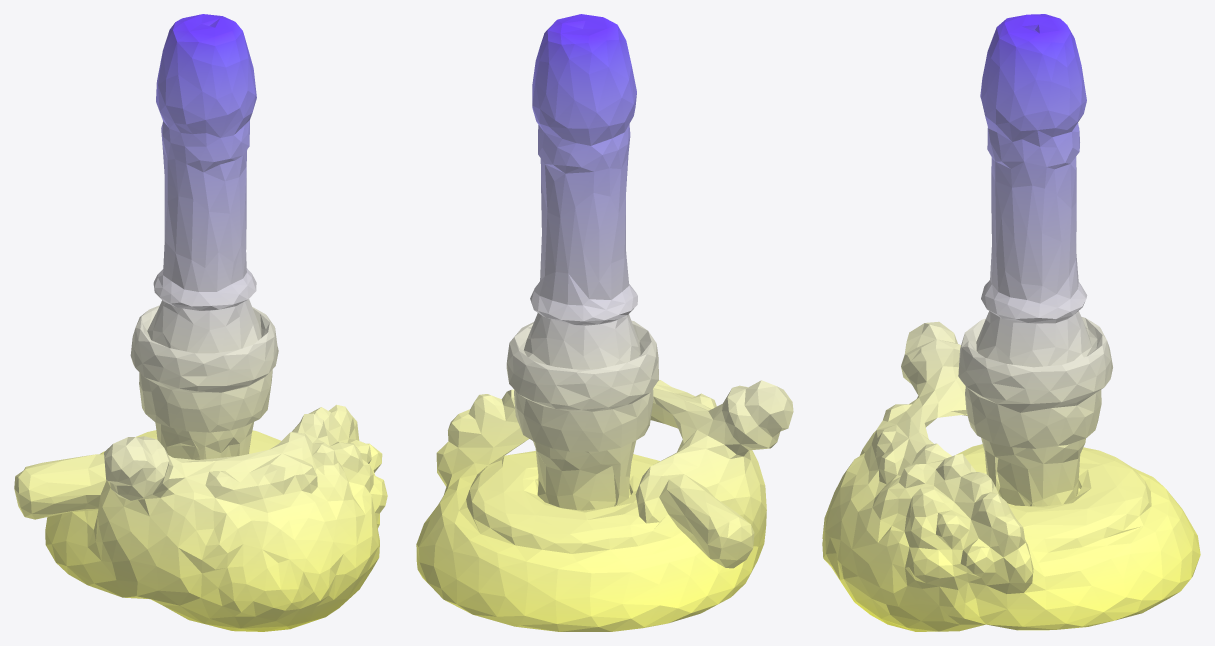
Rendered from 118_cyb_laser_gradient_fish_scales_2855_2026_10_03_8cb923.glb.
3 renders of one model, left to right at view 1: azimuth 30°, elevation 25°; view 2: azimuth 150°, elevation 25°; view 3: azimuth 270°, elevation 25°, orthographic. The views are drawn at different scales.
Visible parts, largest first — view 1: geometry_0; view 2: geometry_0; view 3: geometry_0.
Part boxes in pixels (bbox=[...]): geometry_0: bbox=[14, 14, 387, 631]; geometry_0: bbox=[416, 14, 793, 631]; geometry_0: bbox=[822, 14, 1200, 631].
Bounding box in the file's own units: 0.6216 × 1 × 0.607.
